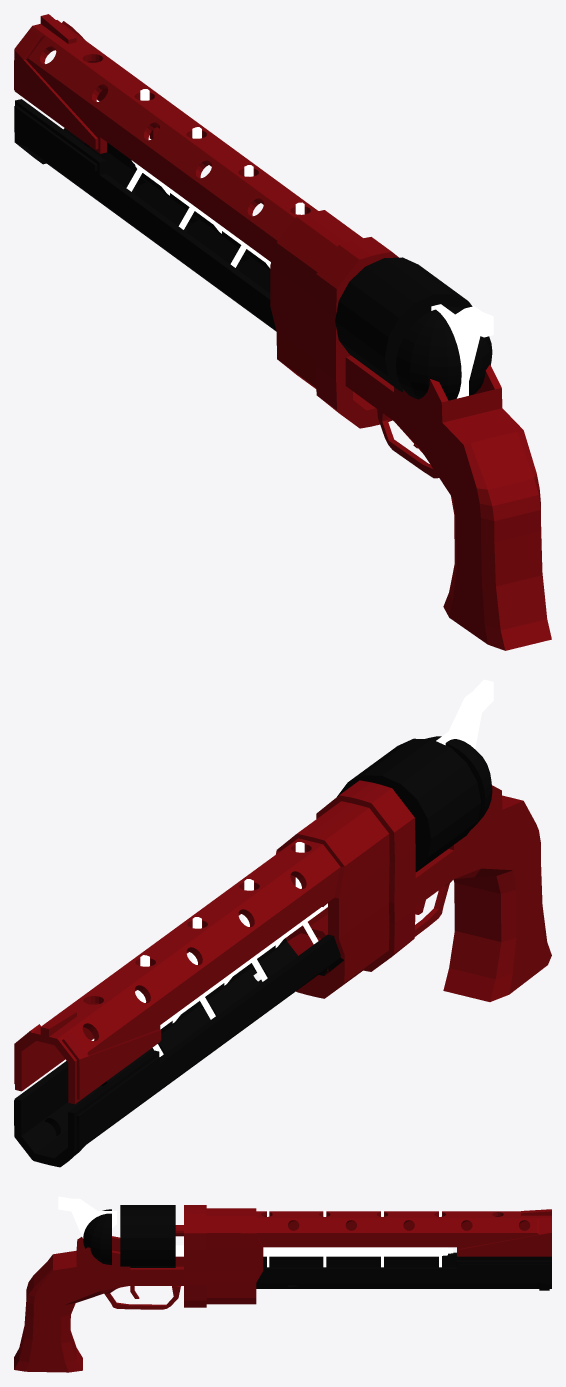
Rendered from space revolver.fbx.
The picture shows the model from 3 angles, top to bottom: view 1: azimuth 30°, elevation 25°; view 2: azimuth 150°, elevation 25°; view 3: azimuth 270°, elevation 25°; orthographic projection. The views are drawn at different scales.
Visible parts, largest first — view 1: trigun; view 2: trigun; view 3: trigun.
Boxes of the visible parts, x1,y1,x2,y2 form: trigun: (14, 14, 551, 650); trigun: (14, 679, 551, 1167); trigun: (14, 1196, 551, 1372).
Size of the model in its own units: 6.74 by 19.69 by 57.63.
